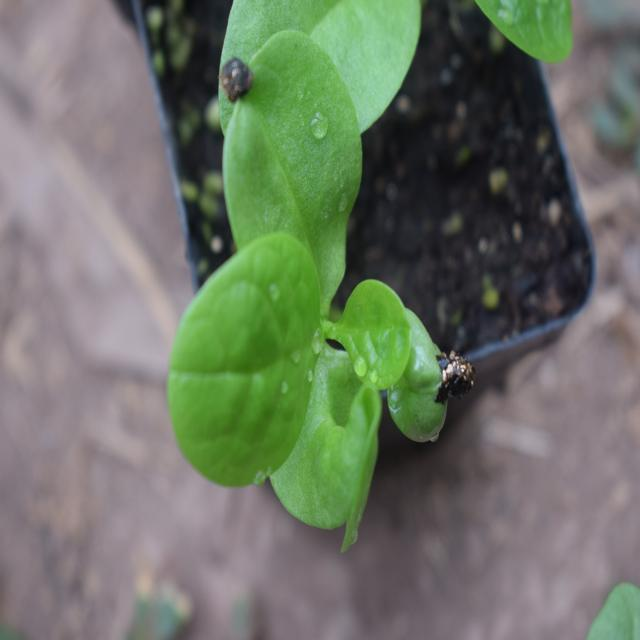Ceylon spinach: (182, 19, 458, 557)
